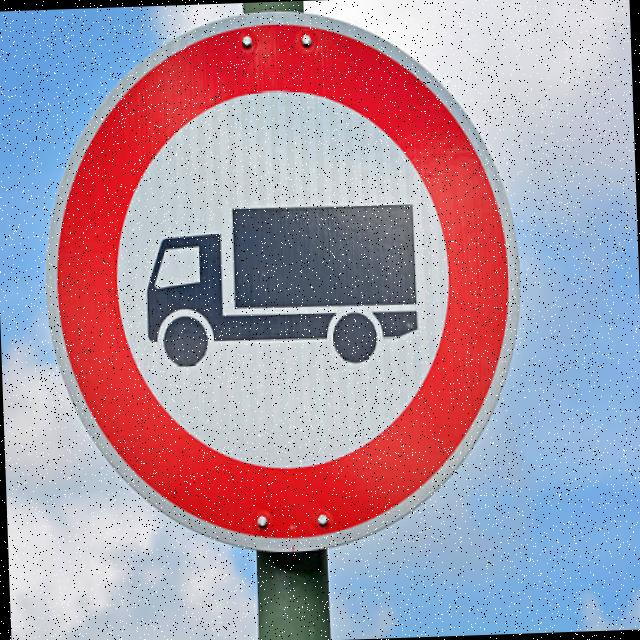do_not_enter: (25, 0, 540, 567)
